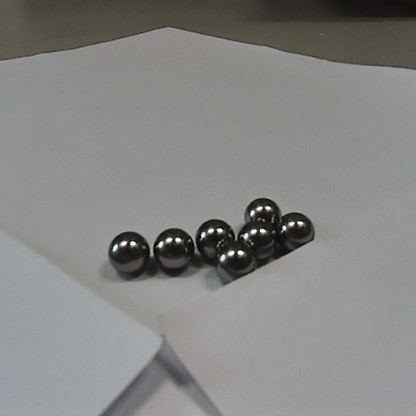ironball: (154, 226, 193, 272), (108, 231, 149, 273), (197, 217, 234, 260), (216, 242, 253, 280), (238, 220, 274, 259), (278, 210, 315, 247), (243, 197, 278, 225)
